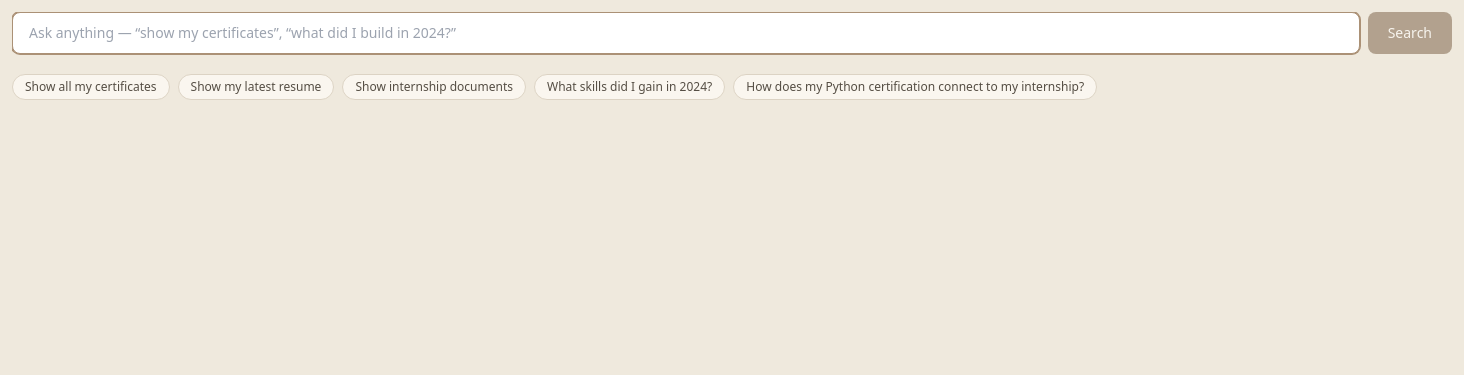
Search routing › badges the source rows the answer cited
Type "how does my cert connect to my internship?" into the search field at x=686, y=33, box [12,12,1360,54]
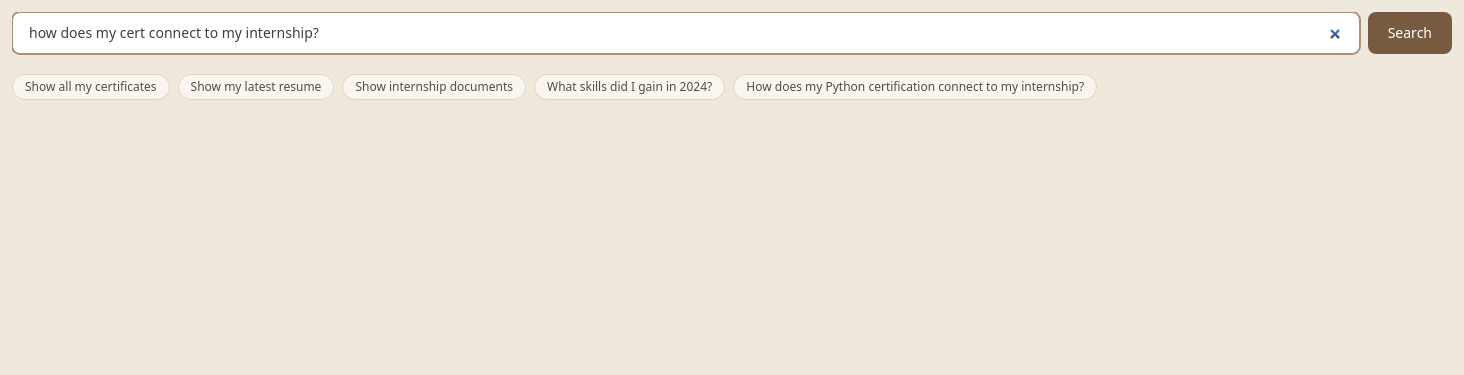
Click the button "Search" at x=1410, y=33, box [1368,12,1452,54]
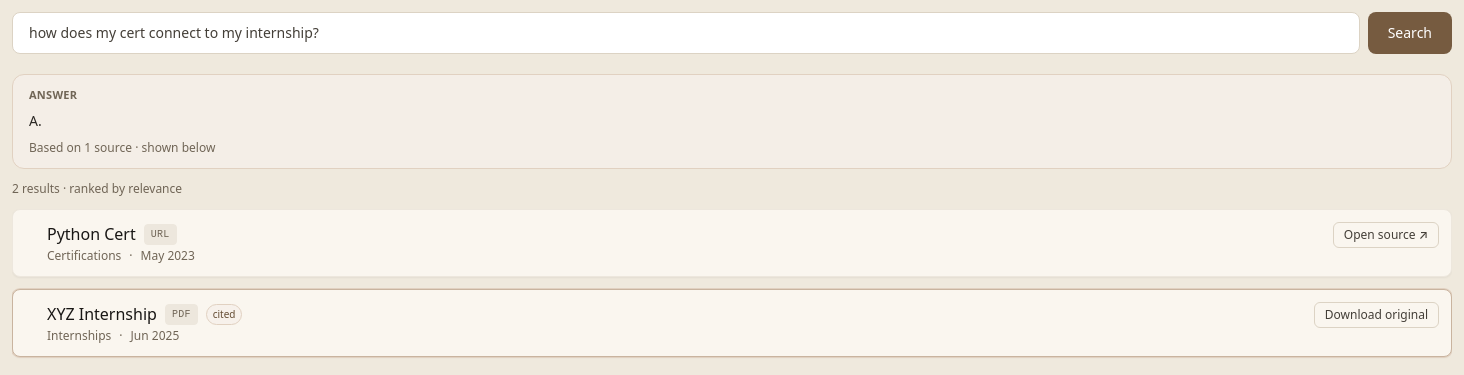
expect the text "cited" is shown once: met, box [206,304,242,325]
